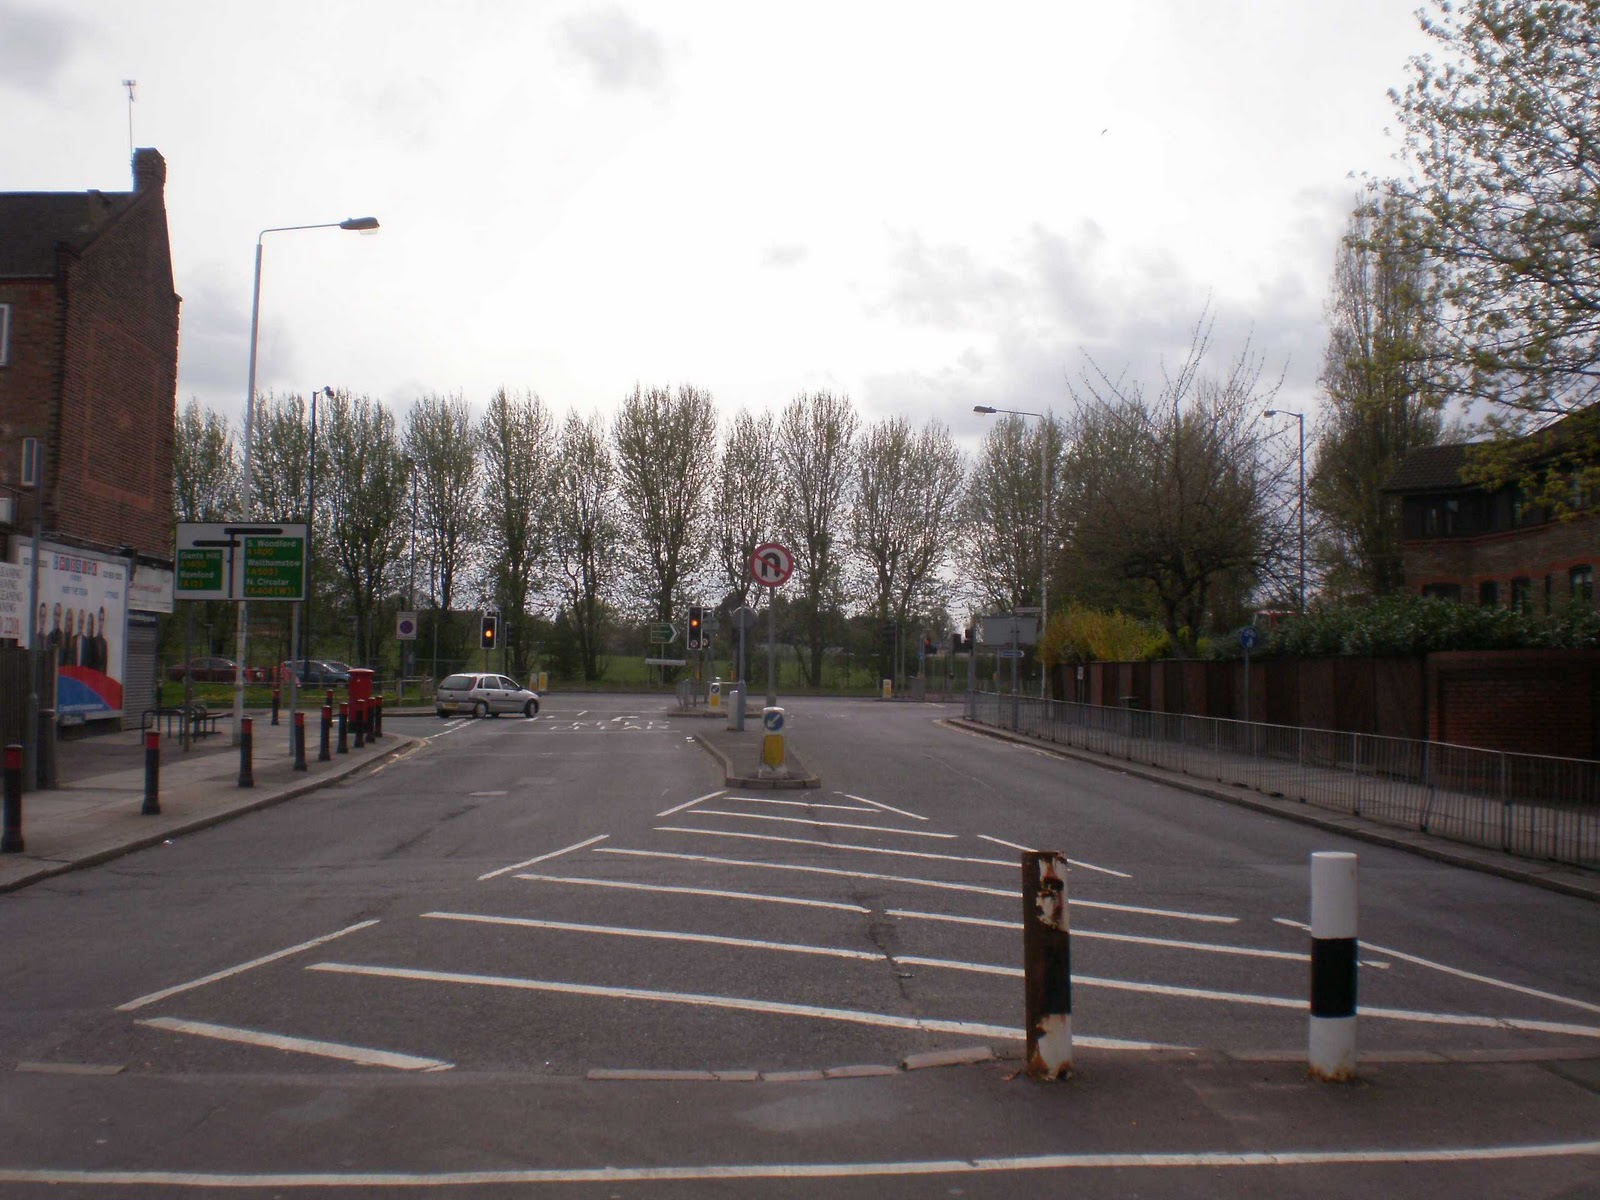No_u_turn: (750, 543, 794, 587)
